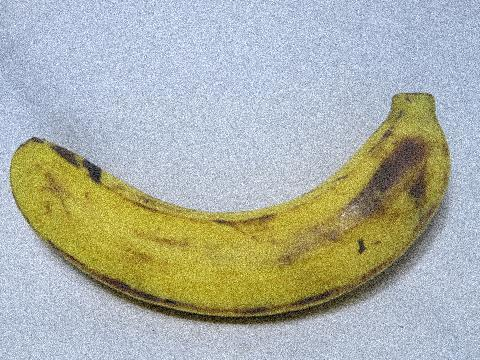overripe: (4, 84, 468, 331)
